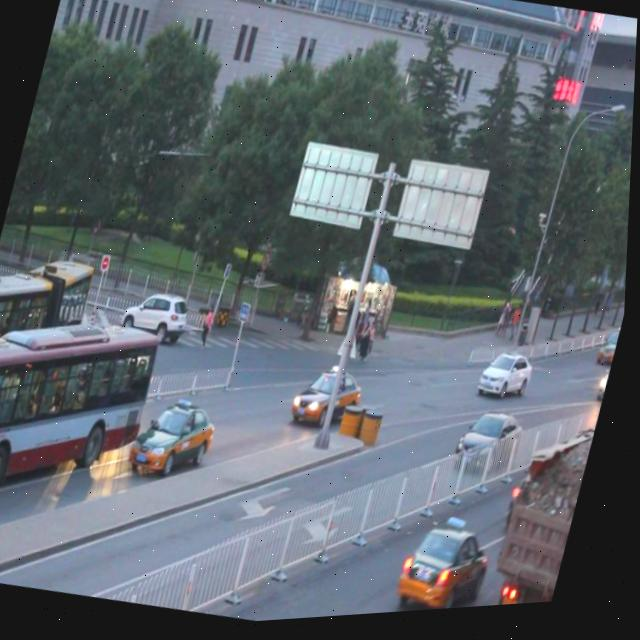bus: (486, 424, 599, 613)
car: (395, 508, 503, 618), (125, 390, 227, 490), (290, 361, 369, 438), (454, 407, 531, 482), (121, 285, 196, 350), (477, 348, 540, 413), (76, 311, 136, 370)
van: (0, 294, 168, 526), (0, 242, 98, 377)
